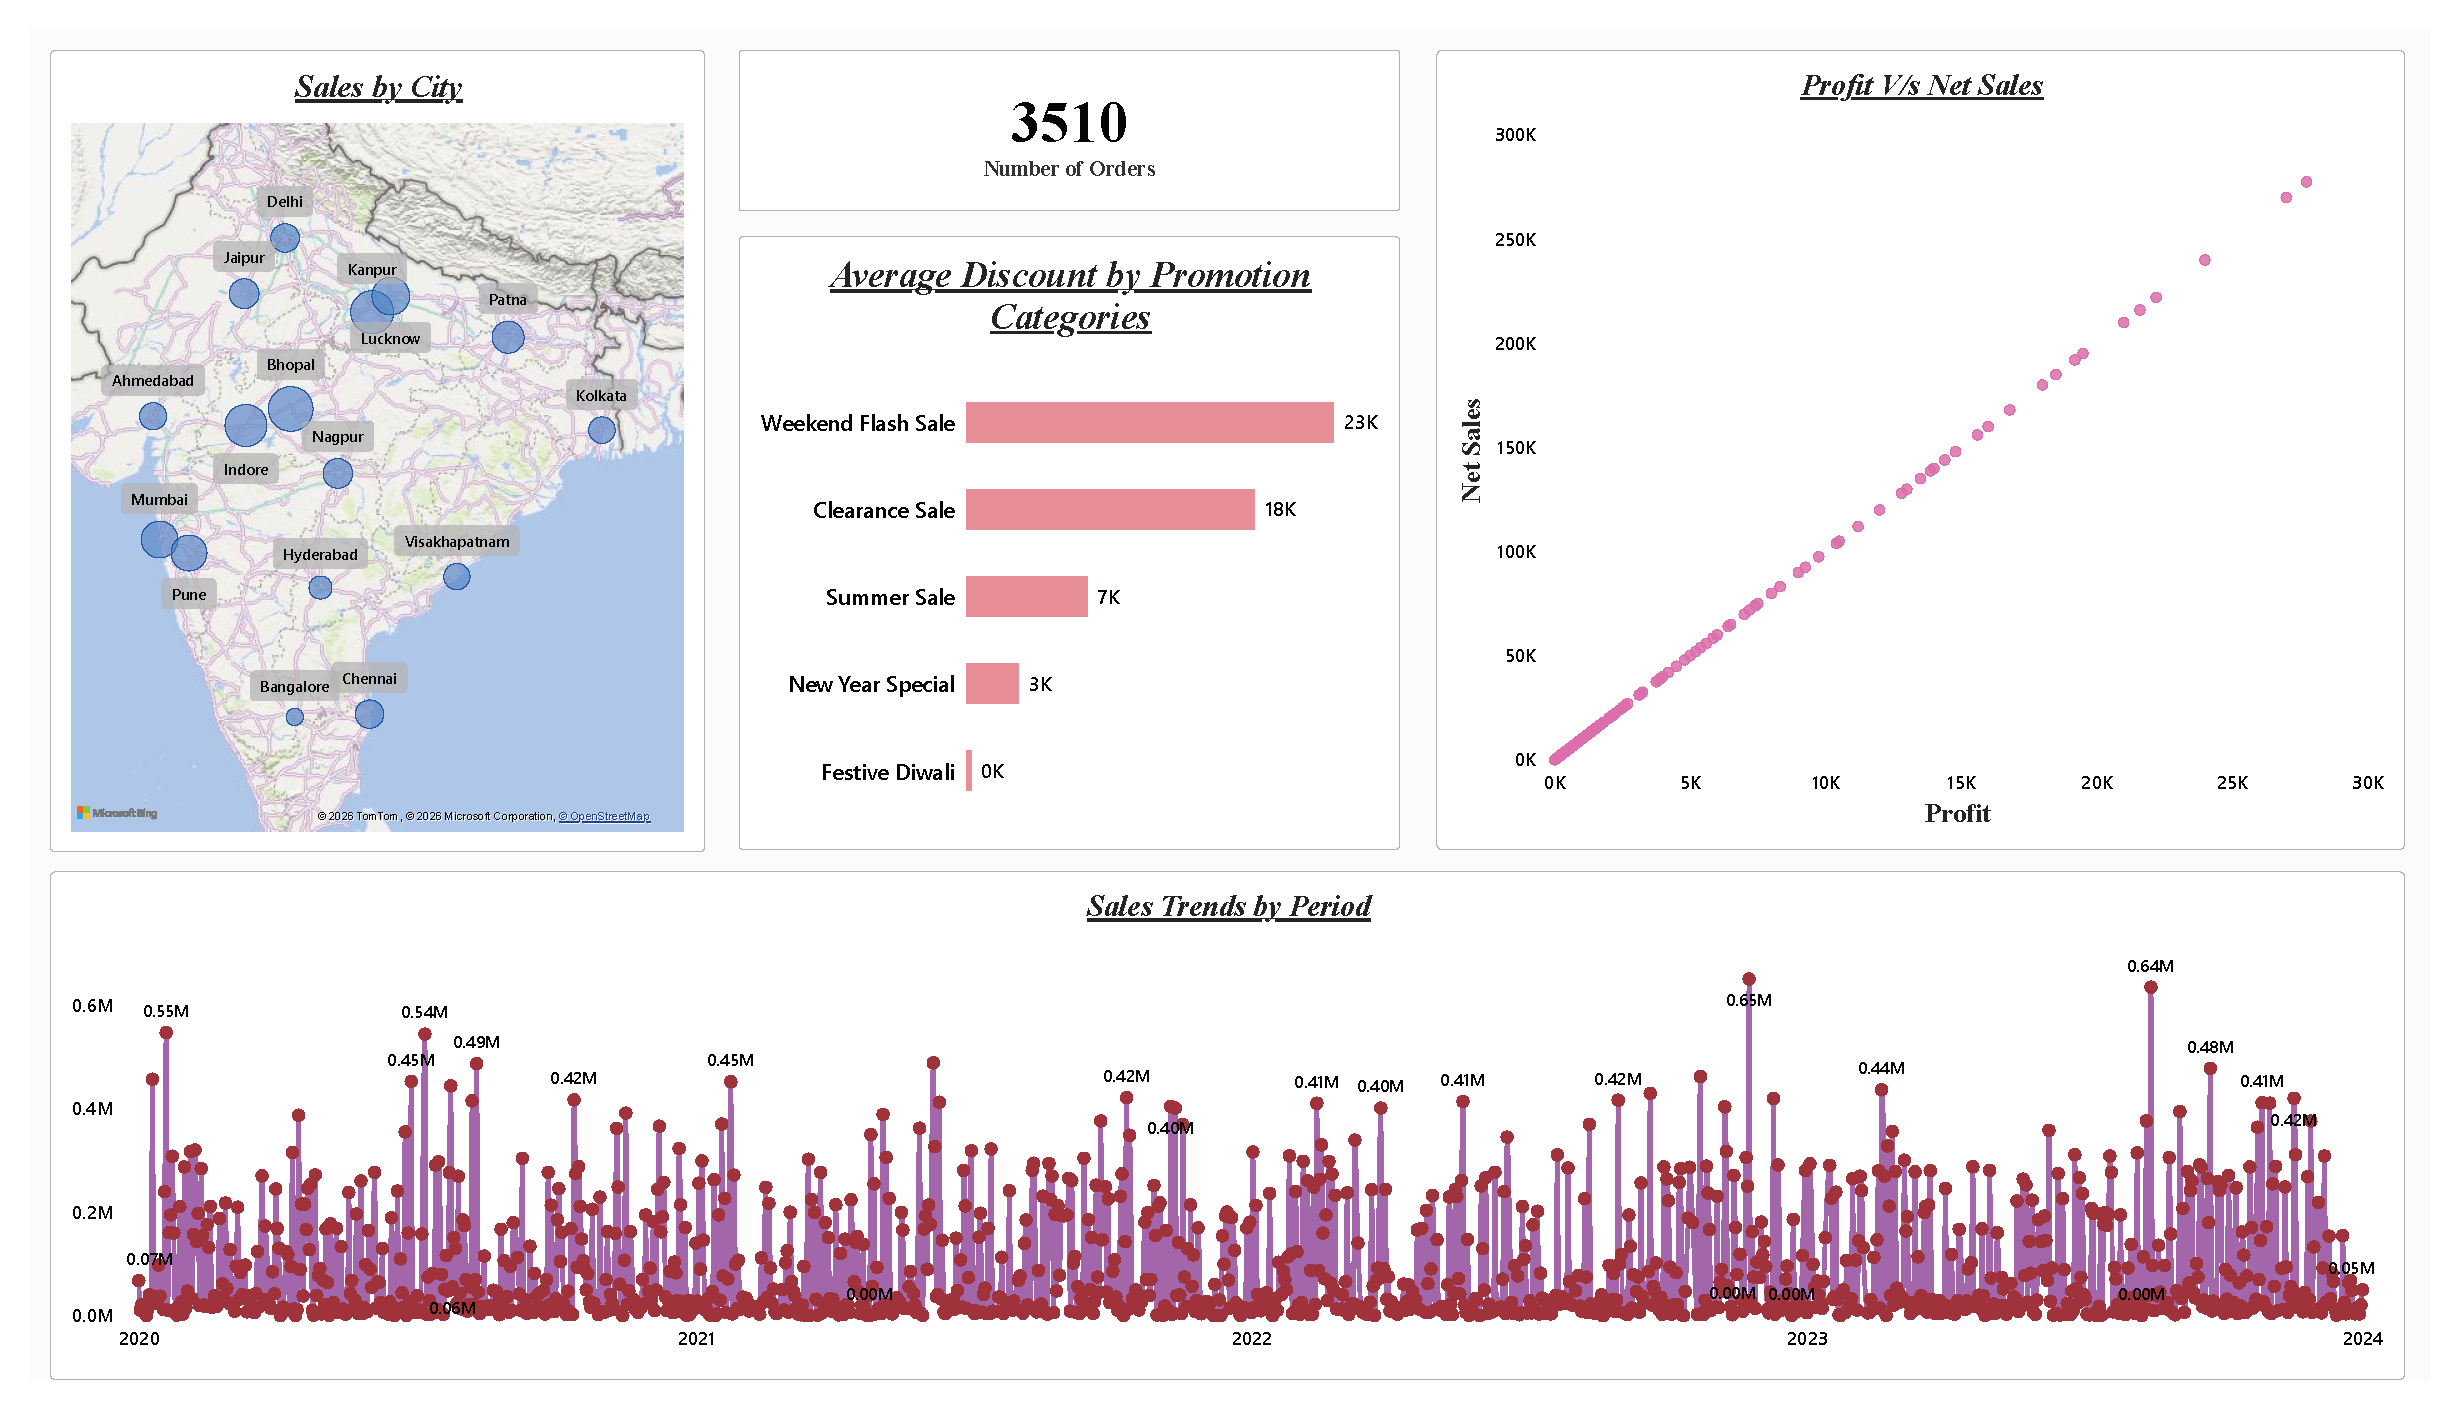

Layout of this report page (visuals, bound fields, positions):
{"tool":"powerbi","page":{"name":"Overview","canvas":[1920,1080],"ordinal":0},"visuals":[{"type":"lineChart","title":"Sales Trends by Period","fields":{"Category":["Fact Table.Date (dd/mm/yyyy).Variation.Date Hierarchy.Year"],"Y":["Sum(Fact Table.Net Sales)"]},"box":[16.4,672.7,1883.6,407.3],"z":0},{"type":"scatterChart","title":"Profit V/s Net Sales","fields":{"X":["Fact Table.Profit"],"Y":["Fact Table.Net Sales"]},"box":[1125.5,16.4,774.5,640],"z":1000},{"type":"barChart","title":"Average Discount by Promotion Categories","fields":{"Category":["Dim Promotion.Promotion Name"],"Y":["Avg(Fact Table.Discount)"]},"box":[567.3,165.5,529.1,490.9],"z":2000},{"type":"map","title":"Sales by City","fields":{"Category":["Dim Customers.City"],"Size":["Sum(Fact Table.Net Sales)"]},"box":[16.4,16.4,523.6,641.8],"z":3000},{"type":"card","fields":{"Values":["Count(Fact Table.Order ID)"]},"box":[567.3,16.4,529.1,129.1],"z":4000}]}

Visuals, with their boxes in screenshot pixels (x1, y1, x2, y2), scaled from the page's 1920x1080 canvas onto the 2460x1410 screenshot:
"Sales Trends by Period" lineChart: locate(21, 878, 2434, 1409)
"Profit V/s Net Sales" scatterChart: locate(1442, 21, 2434, 857)
"Average Discount by Promotion Categories" barChart: locate(727, 216, 1405, 857)
"Sales by City" map: locate(21, 21, 692, 859)
card - Count(Fact Table.Order ID): locate(727, 21, 1405, 190)
